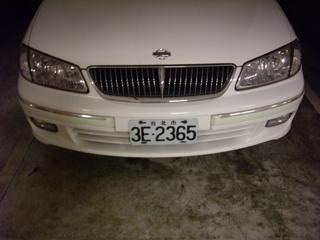plate: (127, 116, 199, 146)
